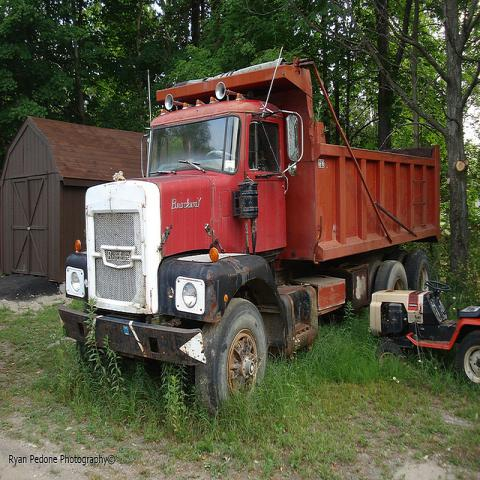truck: (63, 62, 444, 406)
